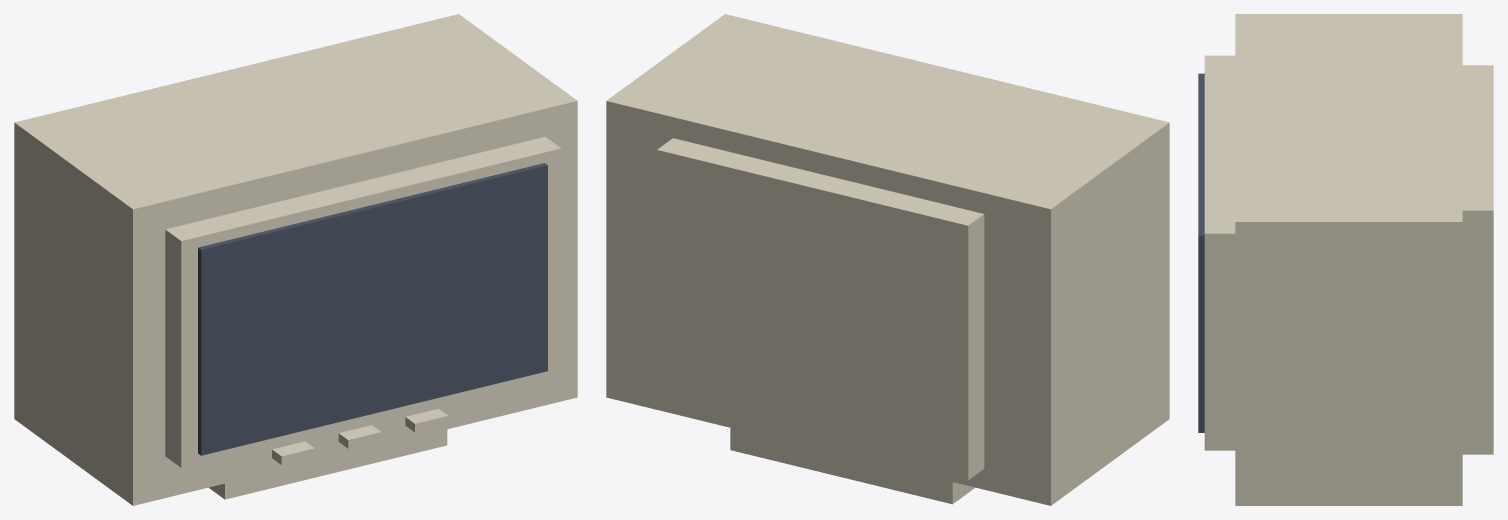
File: RetroPC.fbx
The picture shows the model from 3 angles, left to right: view 1: azimuth 30°, elevation 25°; view 2: azimuth 150°, elevation 25°; view 3: azimuth 270°, elevation 25°; orthographic projection. The views are drawn at different scales.
Parts seen in each view (by area): view 1: RetroPC; view 2: RetroPC; view 3: RetroPC.
Part boxes in pixels (<box>): RetroPC: <box>14,14,577,505</box>; RetroPC: <box>606,14,1169,505</box>; RetroPC: <box>1198,14,1493,505</box>.
Size of the model in its own units: 0.8 by 0.57 by 0.48.
